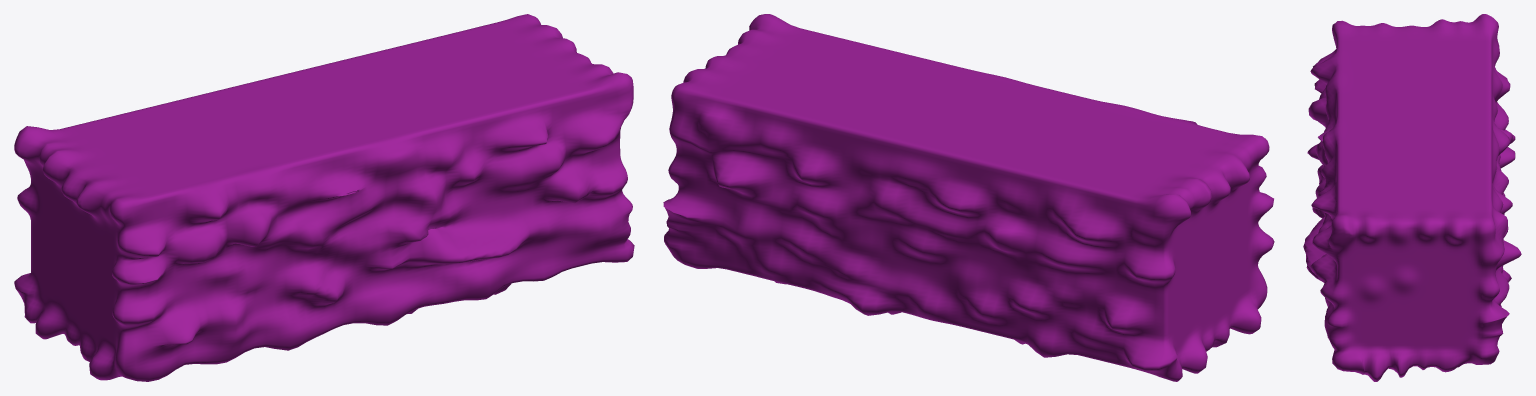
The model's file is Boden1.fbx.
3 views of the same model, side by side, from view 1: azimuth 30°, elevation 25°; view 2: azimuth 150°, elevation 25°; view 3: azimuth 270°, elevation 25° (orthographic). The views are drawn at different scales.
Visible parts, largest first — view 1: pCube1; view 2: pCube1; view 3: pCube1.
Part boxes in pixels (left/top/right/bottom): pCube1: left=14, top=14, right=634, bottom=381; pCube1: left=663, top=14, right=1274, bottom=381; pCube1: left=1303, top=14, right=1521, bottom=381.
Bounding box in the file's own units: 16.23 × 6.04 × 7.06.
